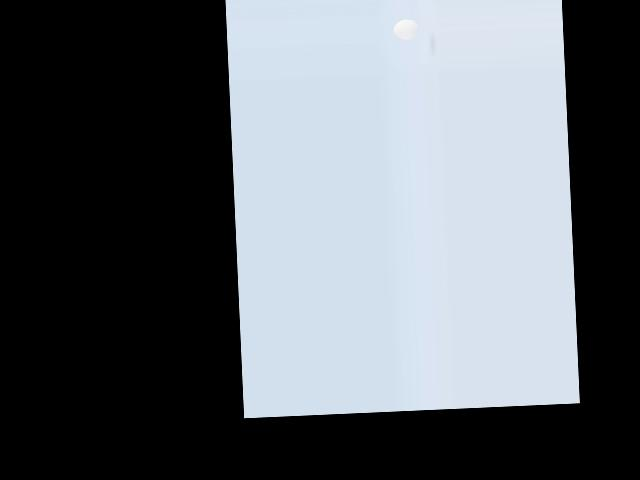egg: (393, 18, 419, 40)
